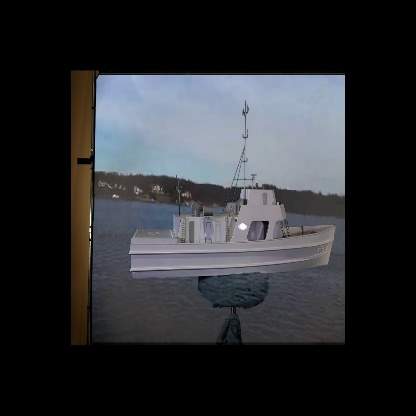YP689: (130, 97, 336, 279)
